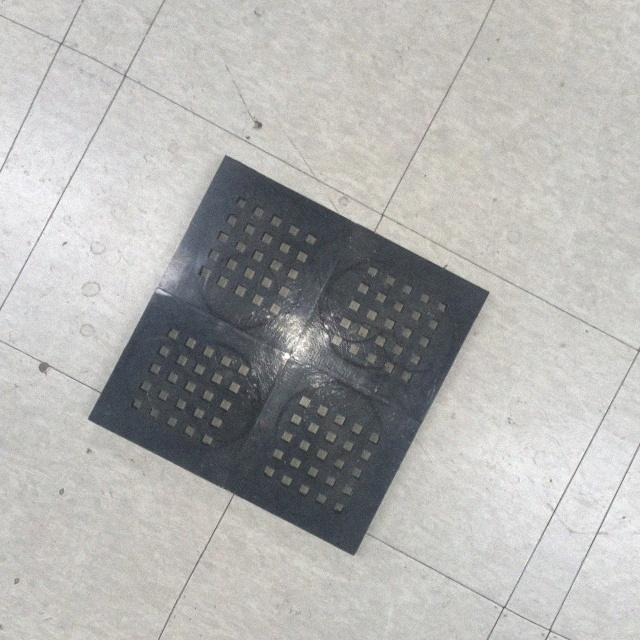pallet: (80, 147, 502, 568)
